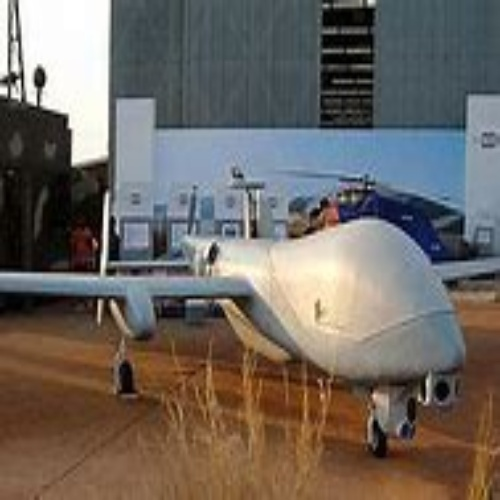uav: (1, 216, 500, 459)
